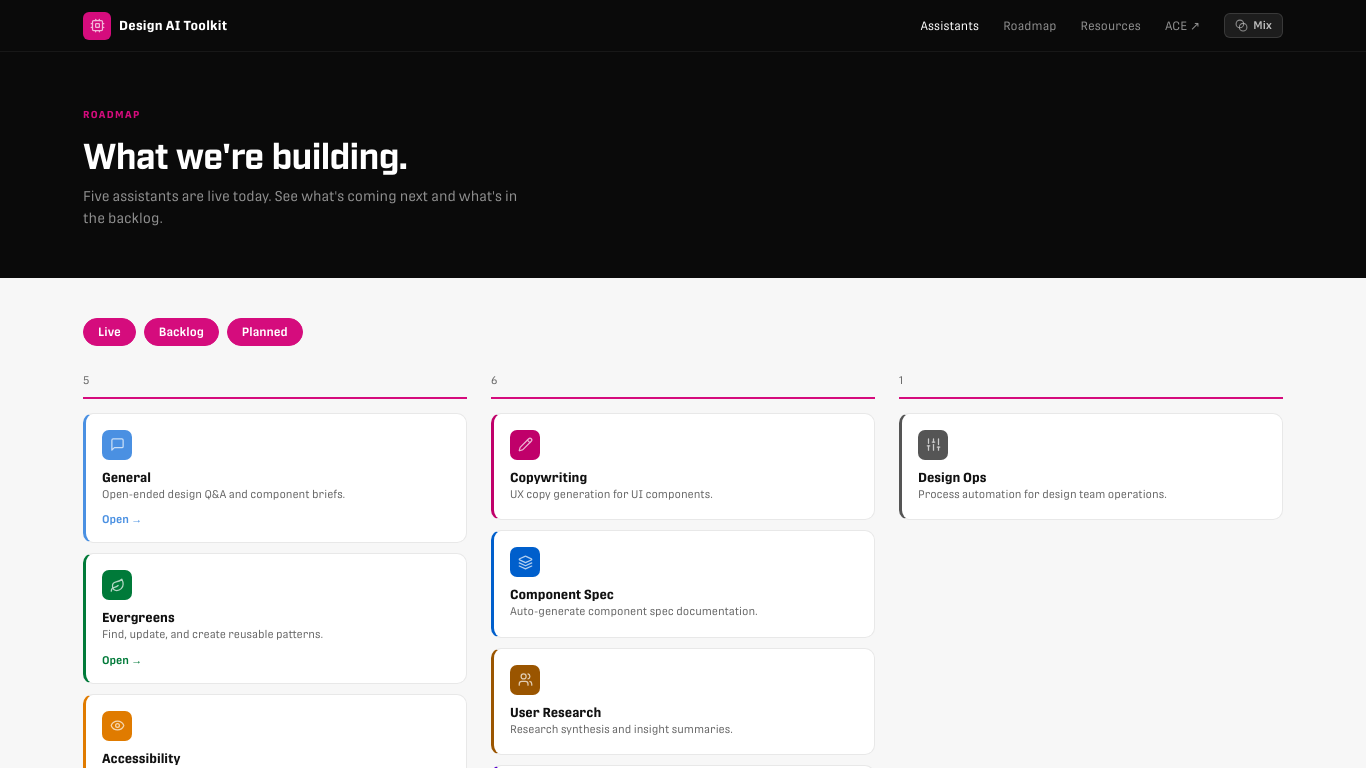
Test case: Roadmap page › filter pill hides Backlog column when toggled off
What coordinates should you click on to do the following:
click the button "Backlog"
I would click on:
 (181, 332)
Its box is [144,318,219,346].
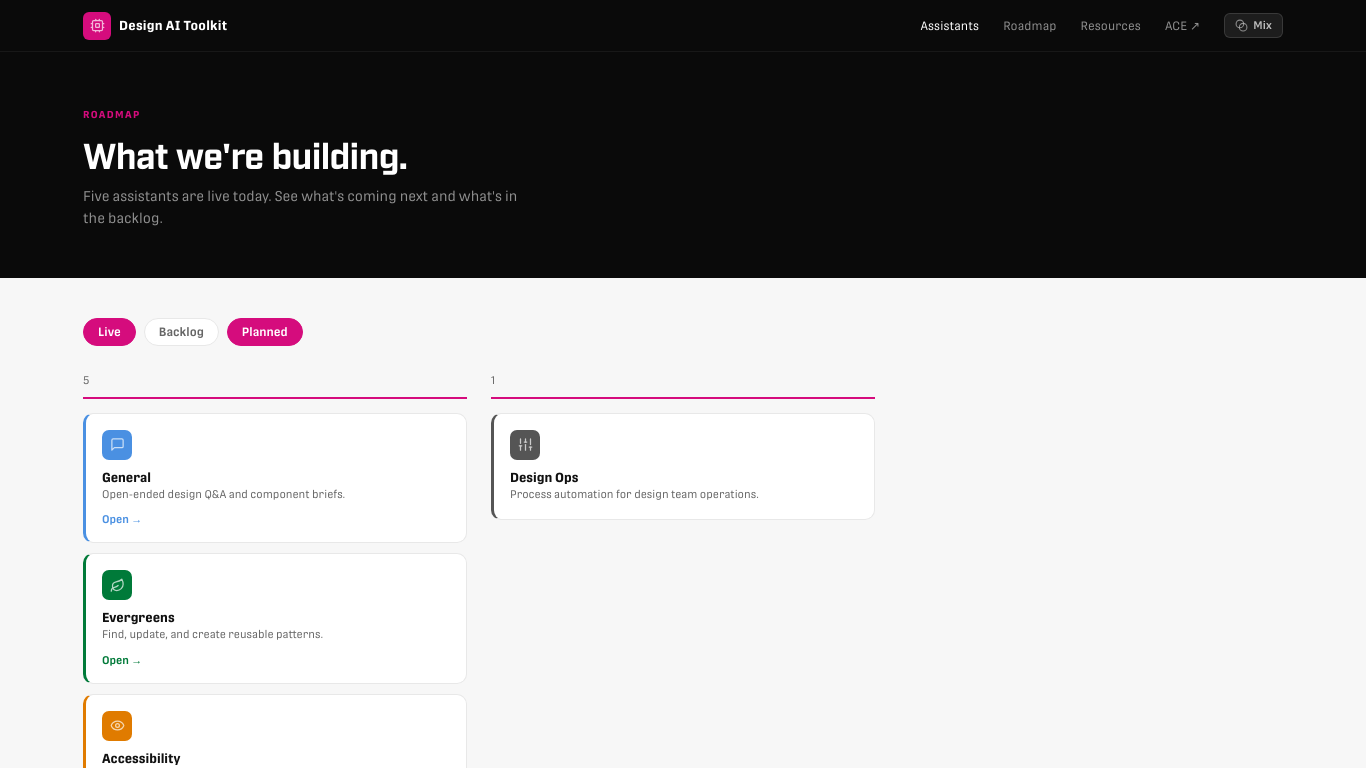
Now the text "Copywriting" is gone
